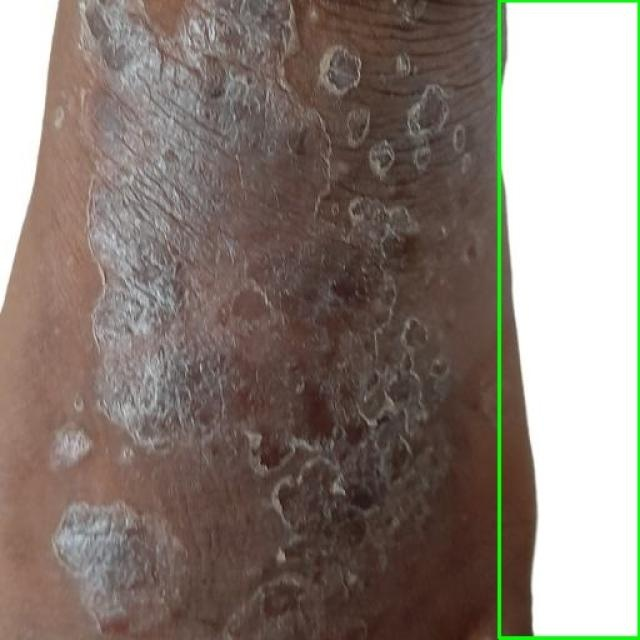Contact Dermatitis: (499, 0, 639, 639)
